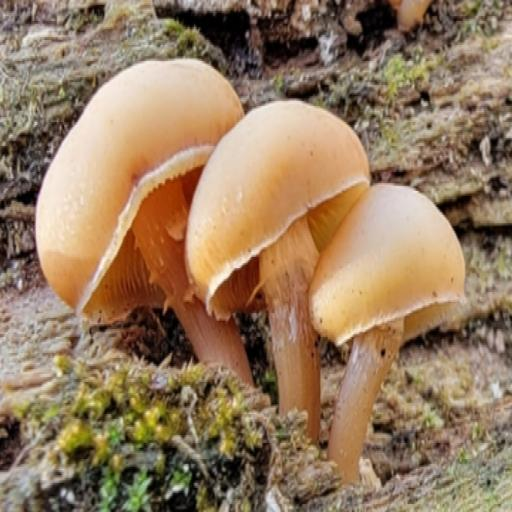mushroom: (33, 55, 466, 483)
